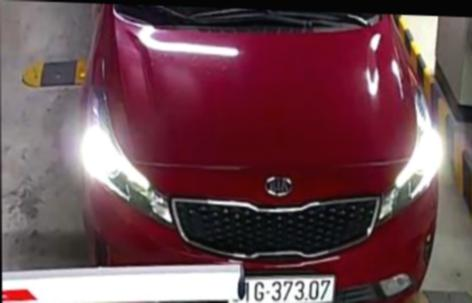License_Plate: (236, 256, 345, 303)
